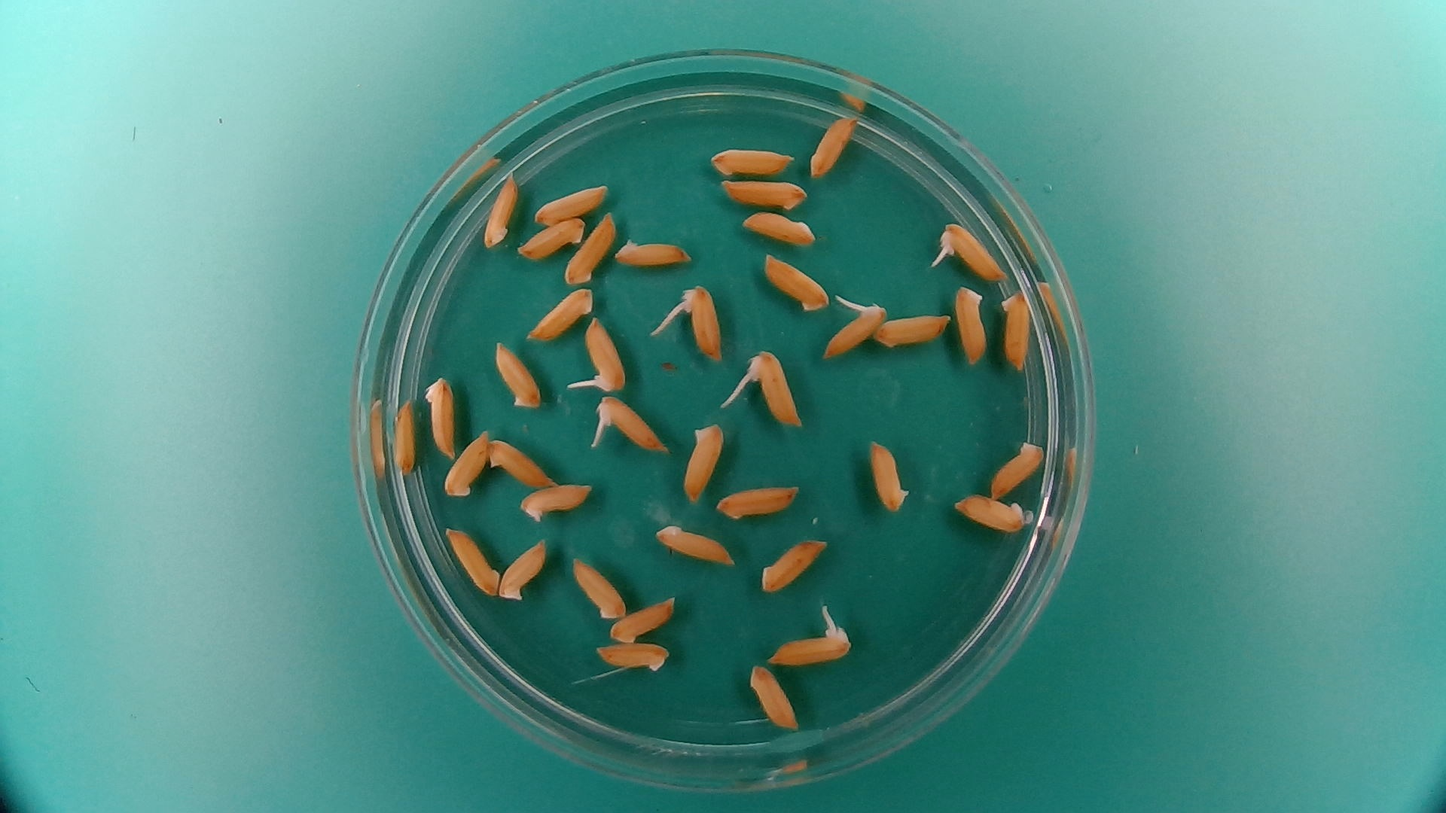no: (746, 662, 803, 742), (761, 250, 831, 314), (758, 534, 831, 594), (650, 519, 738, 568), (443, 523, 500, 598), (562, 211, 618, 286), (568, 553, 628, 621), (525, 284, 595, 342), (680, 419, 726, 504), (440, 426, 492, 500), (492, 338, 544, 411), (948, 491, 1034, 534), (487, 435, 555, 489), (987, 437, 1046, 499), (496, 535, 549, 604), (607, 593, 678, 644), (714, 480, 802, 521), (866, 436, 911, 516), (807, 111, 859, 180), (530, 181, 609, 226), (516, 480, 595, 525), (717, 175, 810, 213), (515, 217, 590, 261), (706, 142, 795, 178), (873, 310, 952, 350), (738, 209, 819, 247), (421, 372, 456, 459), (480, 171, 519, 249), (952, 282, 988, 366), (612, 233, 694, 269), (997, 287, 1032, 371), (592, 638, 671, 674), (390, 395, 416, 476)
yes: (589, 391, 670, 454), (749, 346, 806, 435), (930, 220, 1008, 282), (819, 294, 888, 361), (673, 279, 725, 363), (580, 313, 627, 394), (767, 623, 856, 665)
